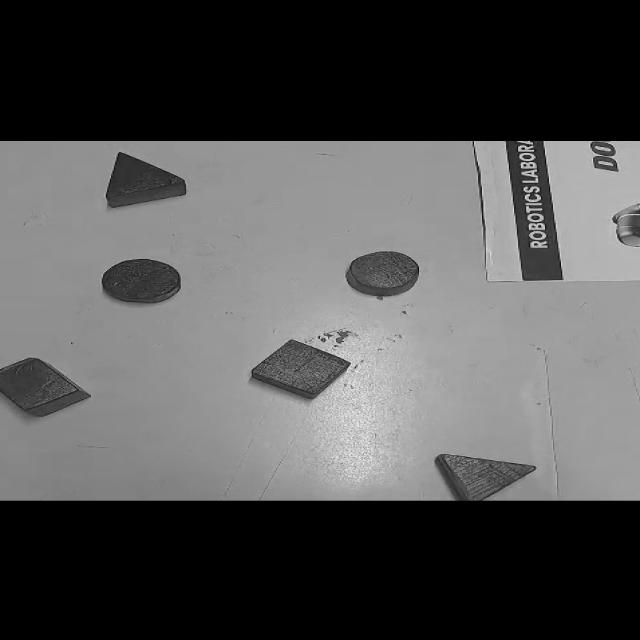bcircle: (100, 258, 182, 303)
bcube: (250, 338, 352, 400)
btriangle: (106, 152, 188, 208)
rcircle: (346, 250, 419, 294)
rcube: (0, 357, 91, 416)
rtriangle: (436, 453, 536, 501)
